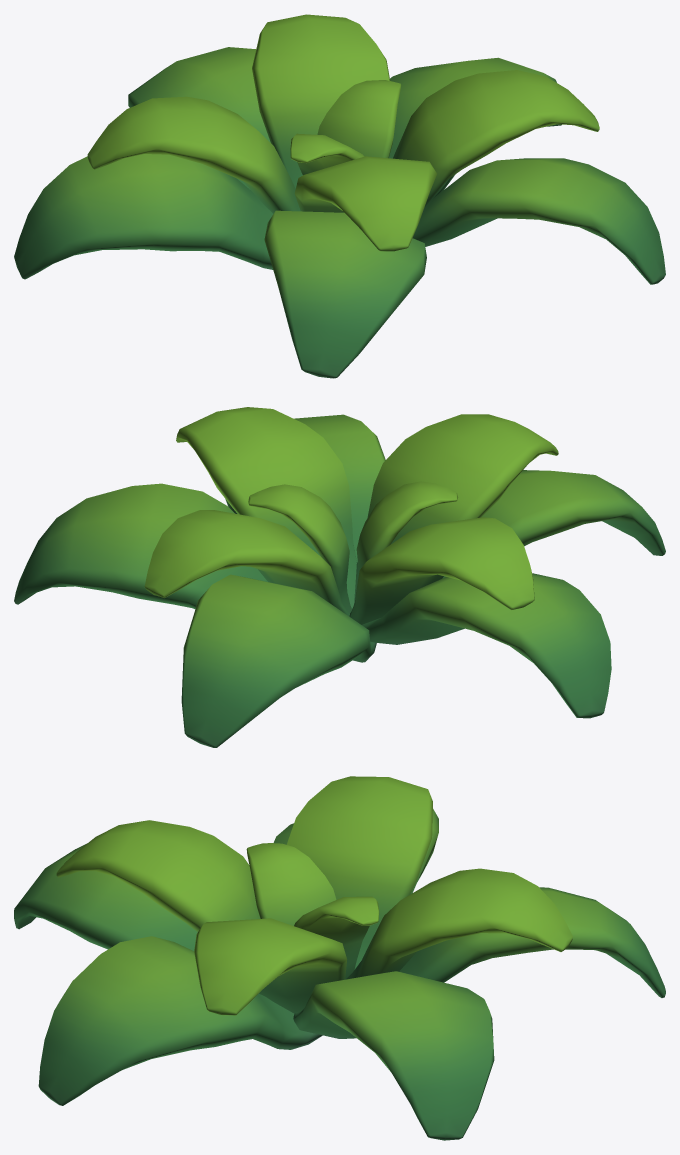
File: Plants_037.fbx
The picture shows the model from 3 angles, top to bottom: view 1: azimuth 30°, elevation 25°; view 2: azimuth 150°, elevation 25°; view 3: azimuth 270°, elevation 25°; orthographic projection. The views are drawn at different scales.
Visible parts, largest first — view 1: Plants.037; view 2: Plants.037; view 3: Plants.037.
Part boxes in pixels (x1=…): Plants.037: x1=14, y1=14, x2=665, y2=378; Plants.037: x1=14, y1=407, x2=665, y2=747; Plants.037: x1=14, y1=776, x2=665, y2=1140.
Size of the model in its own units: 1084 by 291 by 1049.
